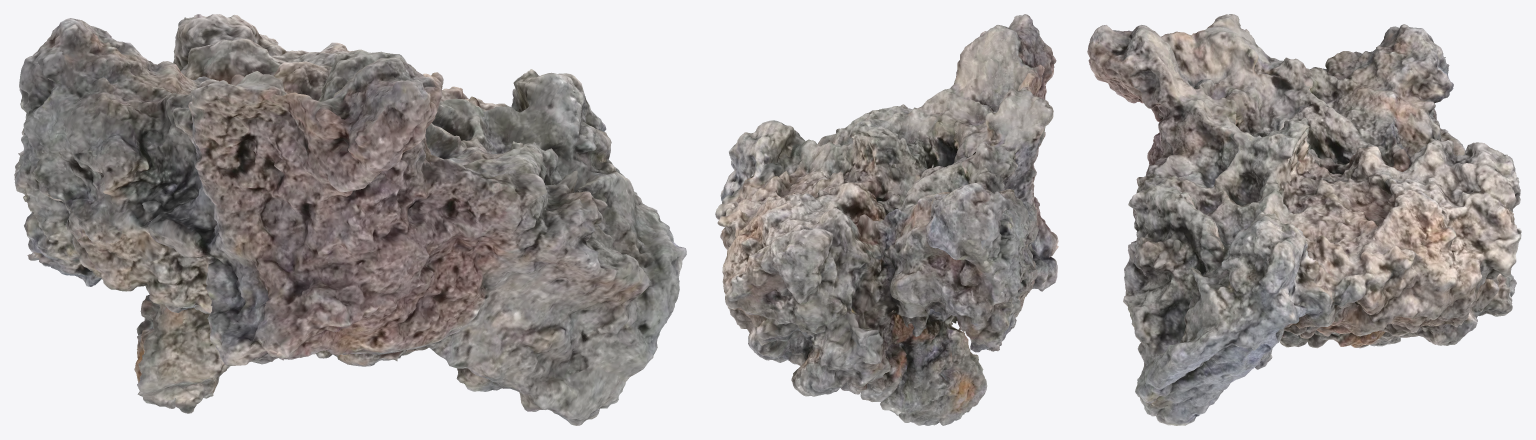
The model's file is basalt.glb.
3 renders of one model, left to right at view 1: azimuth 30°, elevation 25°; view 2: azimuth 150°, elevation 25°; view 3: azimuth 270°, elevation 25°, orthographic. The views are drawn at different scales.
Visible parts, largest first — view 1: Object_2; view 2: Object_2; view 3: Object_2.
Part boxes in pixels (x1,y1,x2,y2): Object_2: [14, 14, 686, 425]; Object_2: [715, 14, 1058, 425]; Object_2: [1087, 14, 1521, 425].
Bounding box in the file's own units: 1.54 × 1.27 × 1.49.
1 material, 1 textured.
